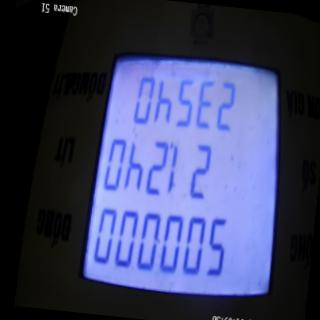screen: (72, 20, 301, 320)
